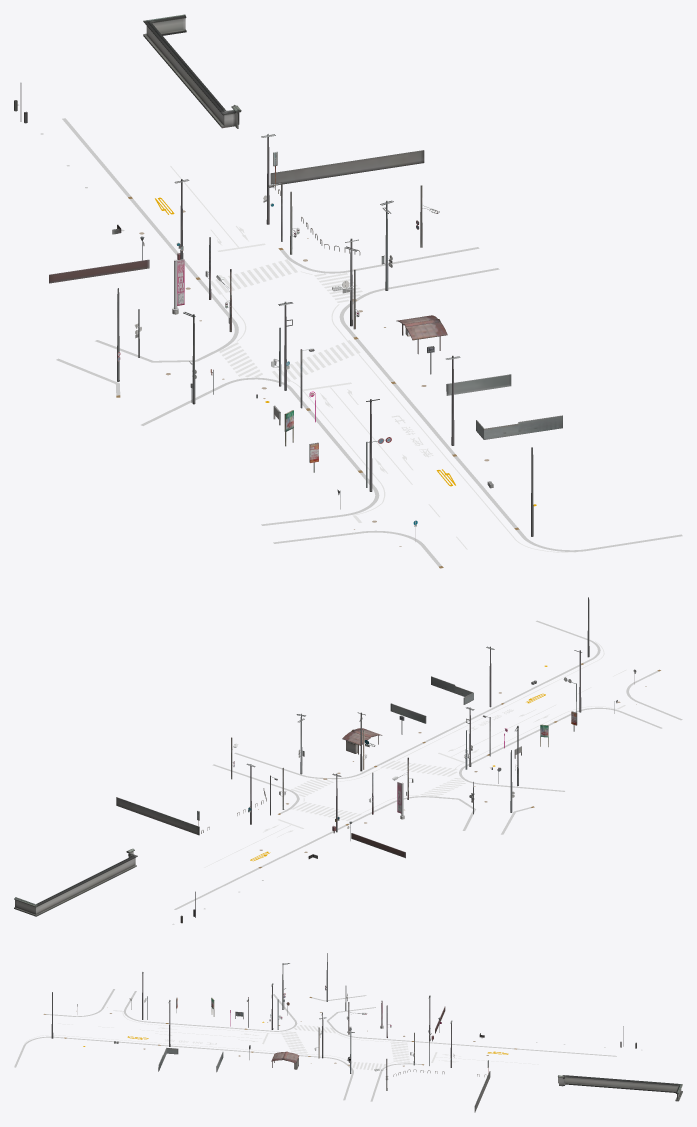
File: frn--9.glb
3 renders of one model, top to bottom at view 1: azimuth 30°, elevation 25°; view 2: azimuth 150°, elevation 25°; view 3: azimuth 270°, elevation 25°, orthographic. The views are drawn at different scales.
Size of the model in its own units: 70.9 by 12.8 by 159.
2 materials, 1 textured.
